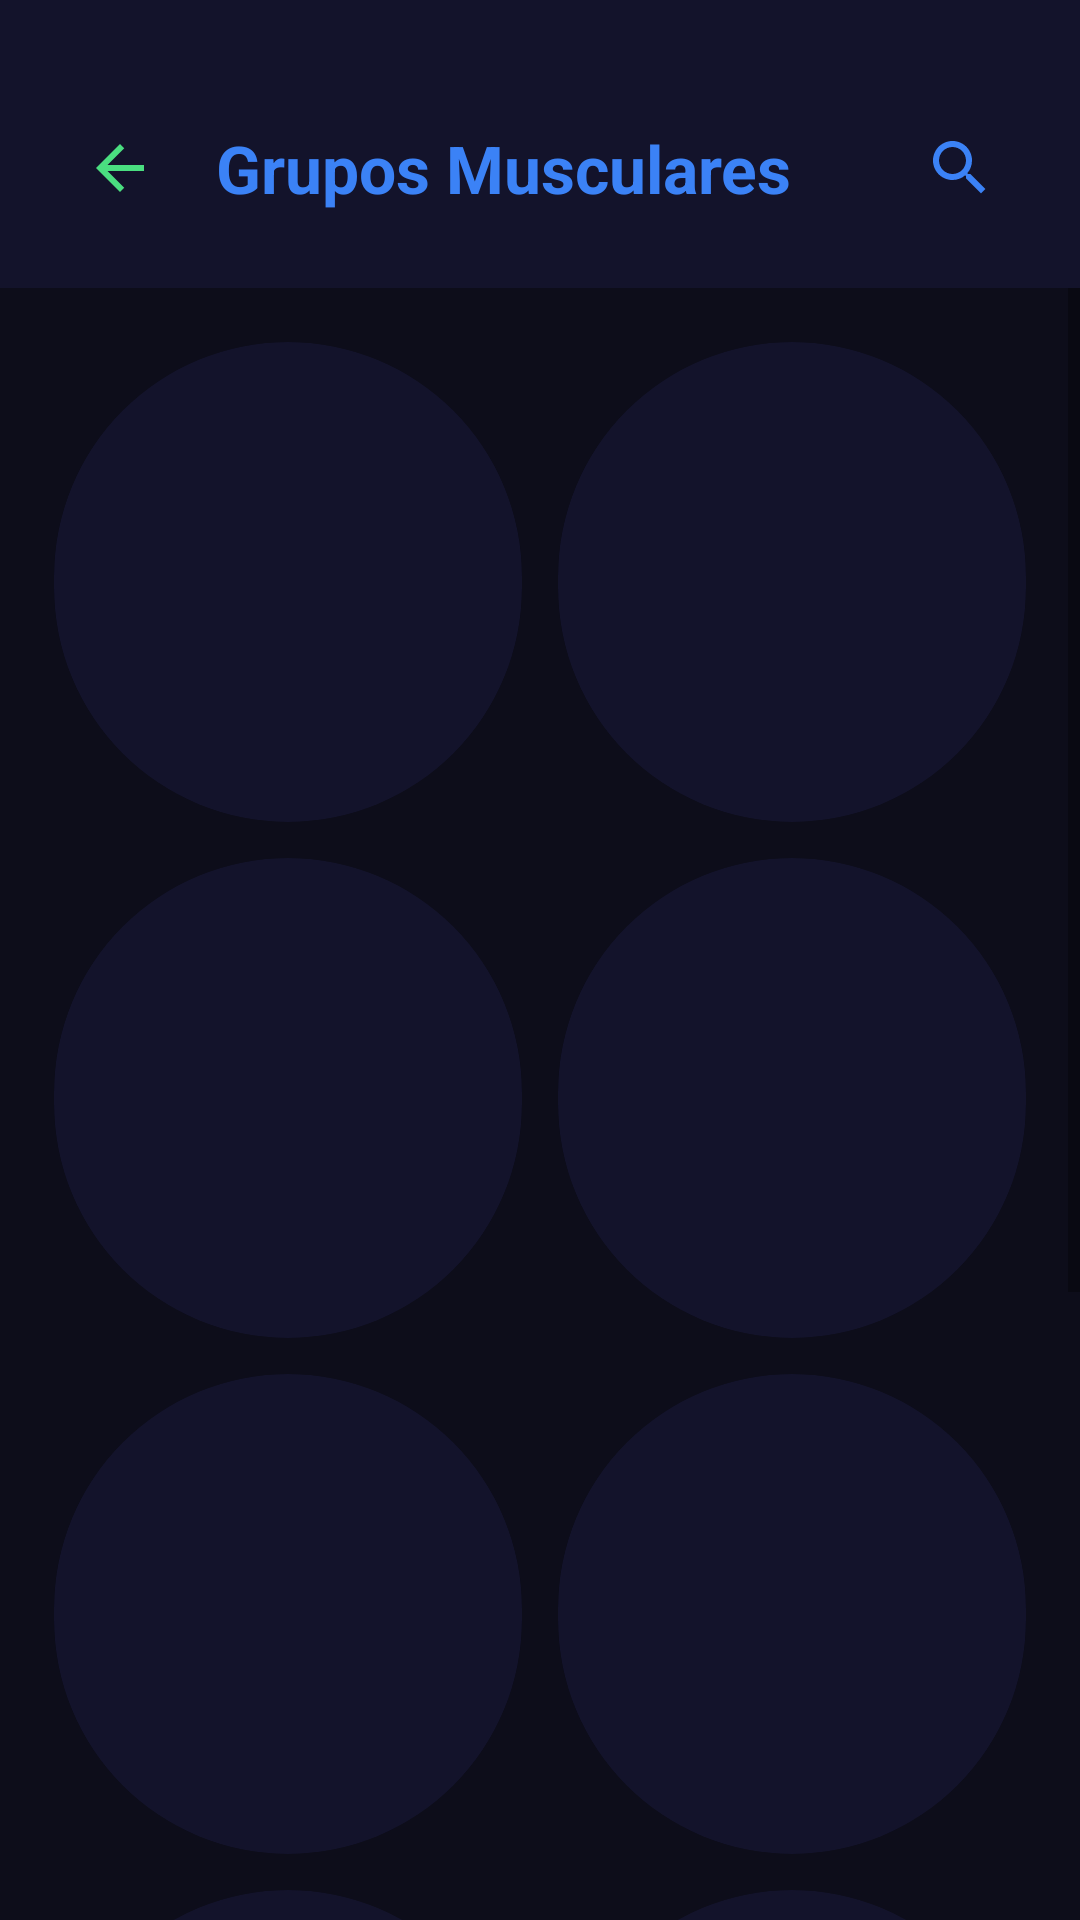

Where to tap for icons on this 1080px x 1920px app screen, as (x,y):
Buscar ejercicios: (959,167)
Volver: (120,168)
